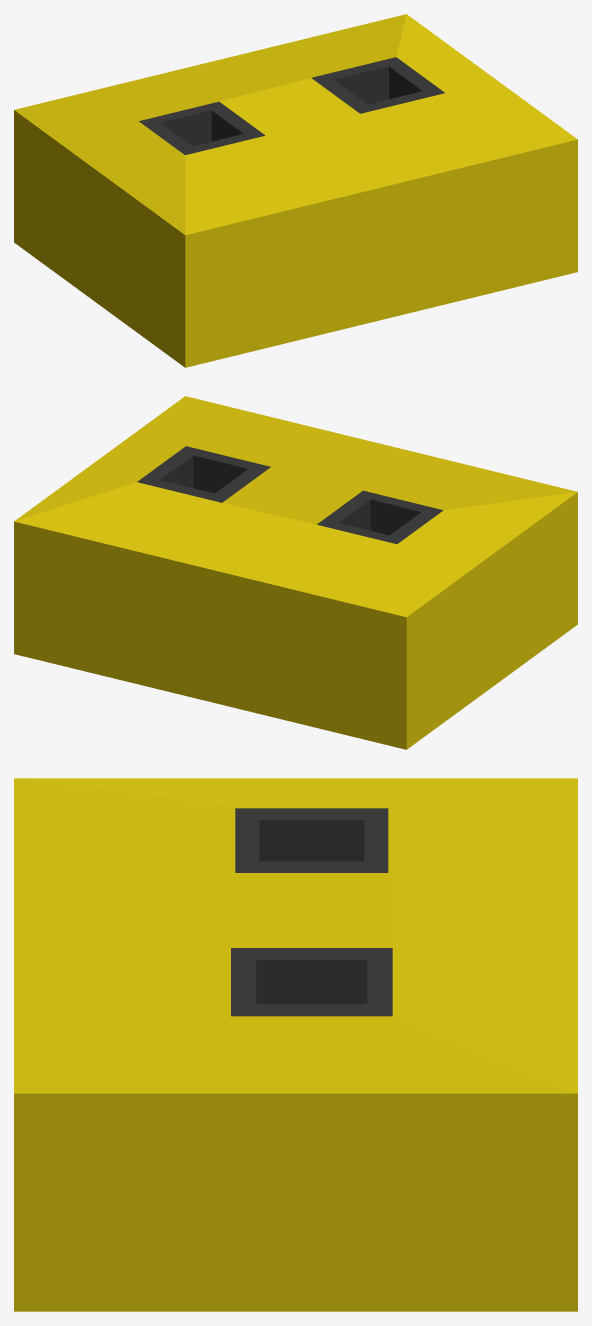
The model's file is Port.fbx.
3 views of the same model, one above another, from view 1: azimuth 30°, elevation 25°; view 2: azimuth 150°, elevation 25°; view 3: azimuth 270°, elevation 25° (orthographic). The views are drawn at different scales.
Visible parts, largest first — view 1: Port.001; view 2: Port.001; view 3: Port.001.
Boxes of the visible parts, x1,y1,x2,y2 form: Port.001: (14, 14, 577, 367); Port.001: (14, 396, 577, 749); Port.001: (14, 778, 577, 1311).
Size of the model in its own units: 266 by 95.13 by 201.
